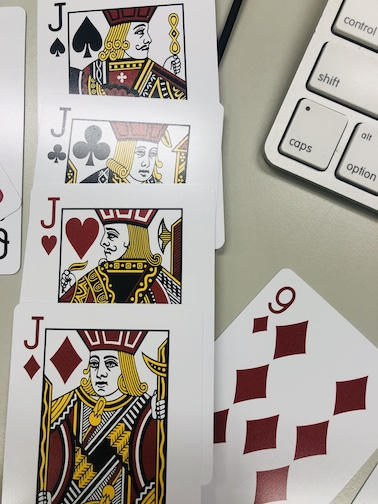jack: (11, 306, 210, 504), (26, 191, 215, 305), (38, 1, 220, 102), (35, 102, 223, 193)
nine: (219, 262, 378, 497)
